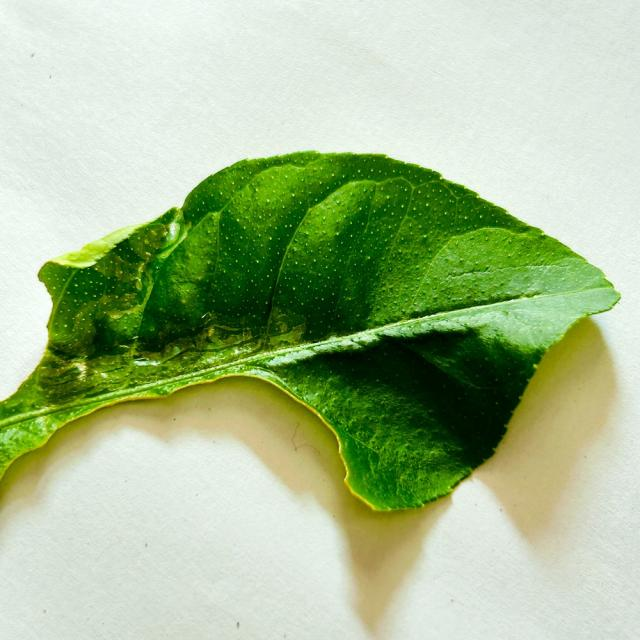Deficiency Leaf: (14, 378, 379, 514), (0, 275, 52, 400)
Lemon: (0, 152, 619, 510)
